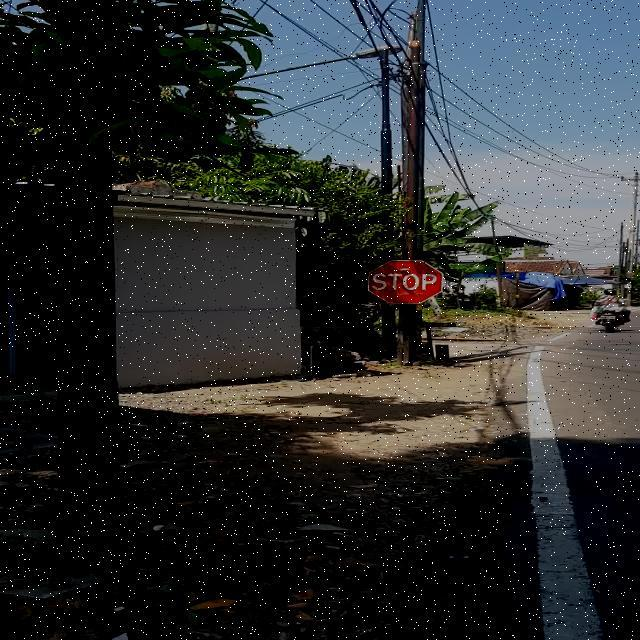Berhenti: (367, 260, 444, 304)
